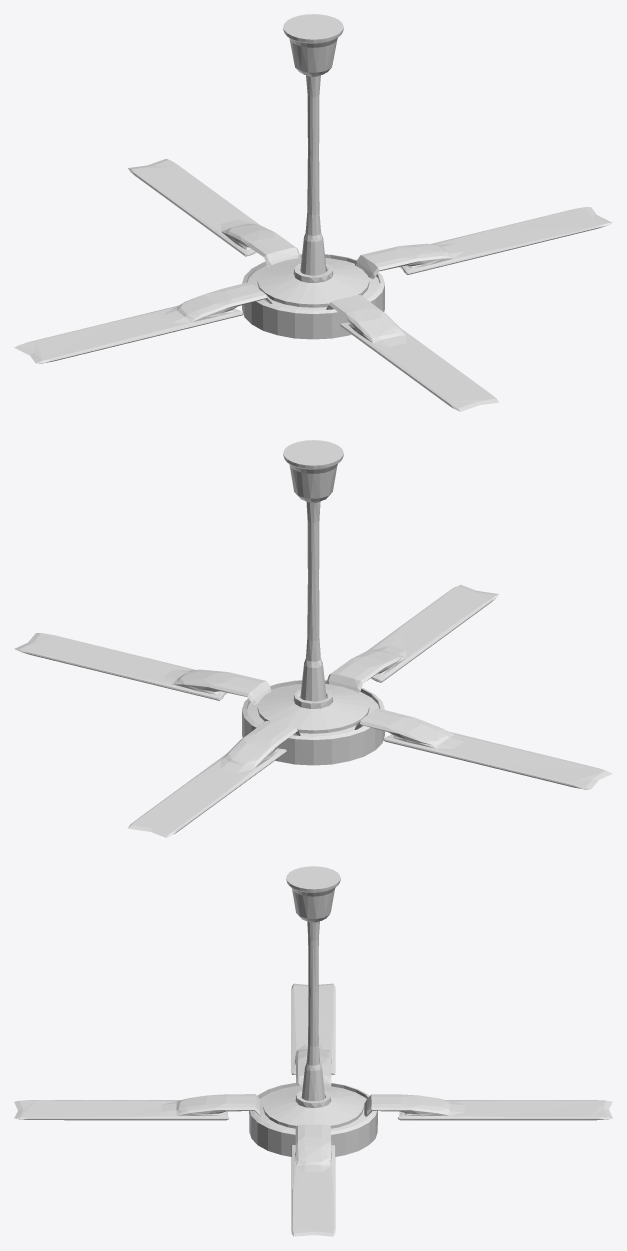
Rendered from ceiling_fan.dae.
The picture shows the model from 3 angles, top to bottom: view 1: azimuth 30°, elevation 25°; view 2: azimuth 150°, elevation 25°; view 3: azimuth 270°, elevation 25°; orthographic projection. The views are drawn at different scales.
Parts seen in each view (by area): view 1: Fins, Fan; view 2: Fins, Fan; view 3: Fins, Fan.
Part boxes in pixels (<box>): Fins: <box>14,159,612,411</box>; Fan: <box>242,14,384,339</box>; Fins: <box>14,585,612,837</box>; Fan: <box>242,440,384,765</box>; Fins: <box>14,983,612,1236</box>; Fan: <box>249,866,377,1156</box>.
Bounding box in the file's own units: 4.25 × 4.25 × 2.09.
